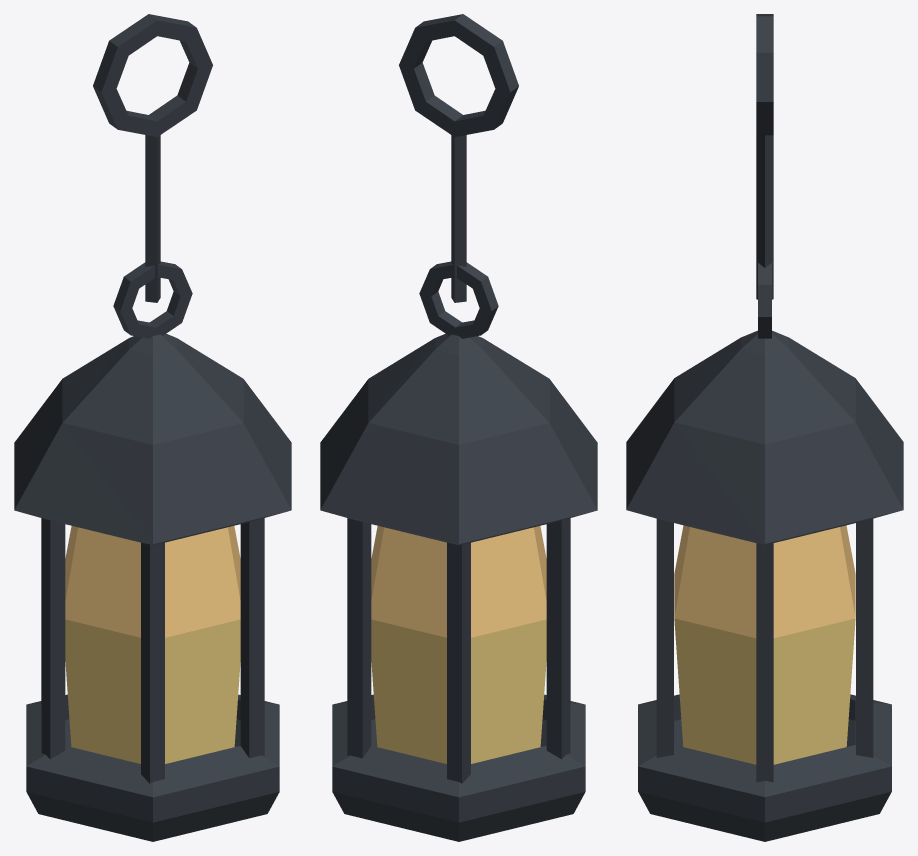
File: HangingLantern.obj
The picture shows the model from 3 angles, left to right: view 1: azimuth 30°, elevation 25°; view 2: azimuth 150°, elevation 25°; view 3: azimuth 270°, elevation 25°; orthographic projection.
Size of the model in its own units: 0.92 by 2.43 by 0.796.
